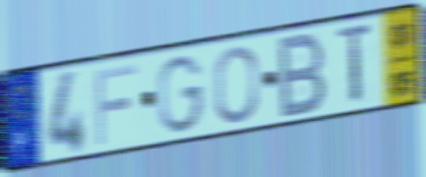4: (45, 68, 89, 157)
B: (278, 29, 330, 122)
F: (93, 61, 140, 148)
G: (155, 53, 206, 136)
O: (212, 43, 261, 127)
T: (336, 19, 376, 109)
